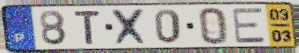0: (197, 6, 229, 46), (153, 8, 182, 46)
8: (38, 9, 68, 47)
E: (230, 6, 269, 45)
T: (72, 9, 102, 46)
X: (109, 8, 151, 47)
